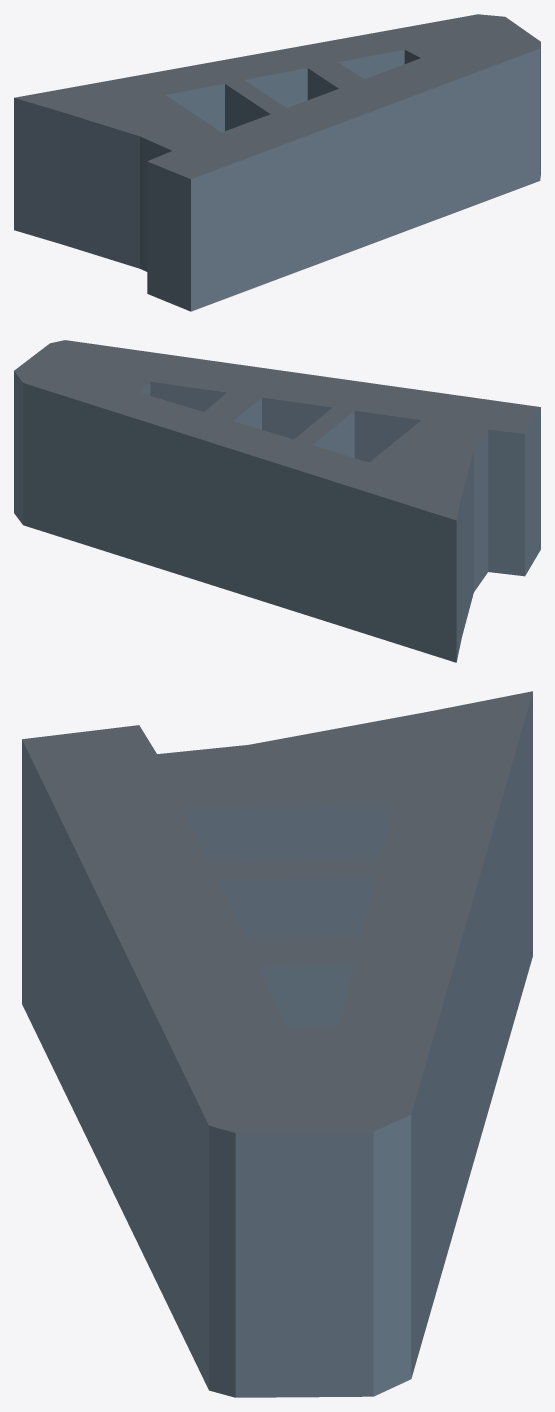
The picture shows the model from 3 angles, top to bottom: view 1: azimuth 30°, elevation 25°; view 2: azimuth 150°, elevation 25°; view 3: azimuth 270°, elevation 25°; orthographic projection. The views are drawn at different scales.
Parts seen in each view (by area): view 1: HP-r2376366; view 2: HP-r2376366; view 3: HP-r2376366.
Boxes of the visible parts, x1=… form: HP-r2376366: x1=14, y1=14, x2=540, y2=311; HP-r2376366: x1=14, y1=340, x2=540, y2=662; HP-r2376366: x1=22, y1=691, x2=532, y2=1397.
Bounding box in the file's own units: 150 × 41.8 × 73.1.
